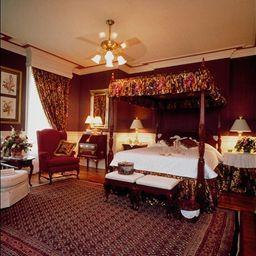Cama: (116, 134, 217, 172)
